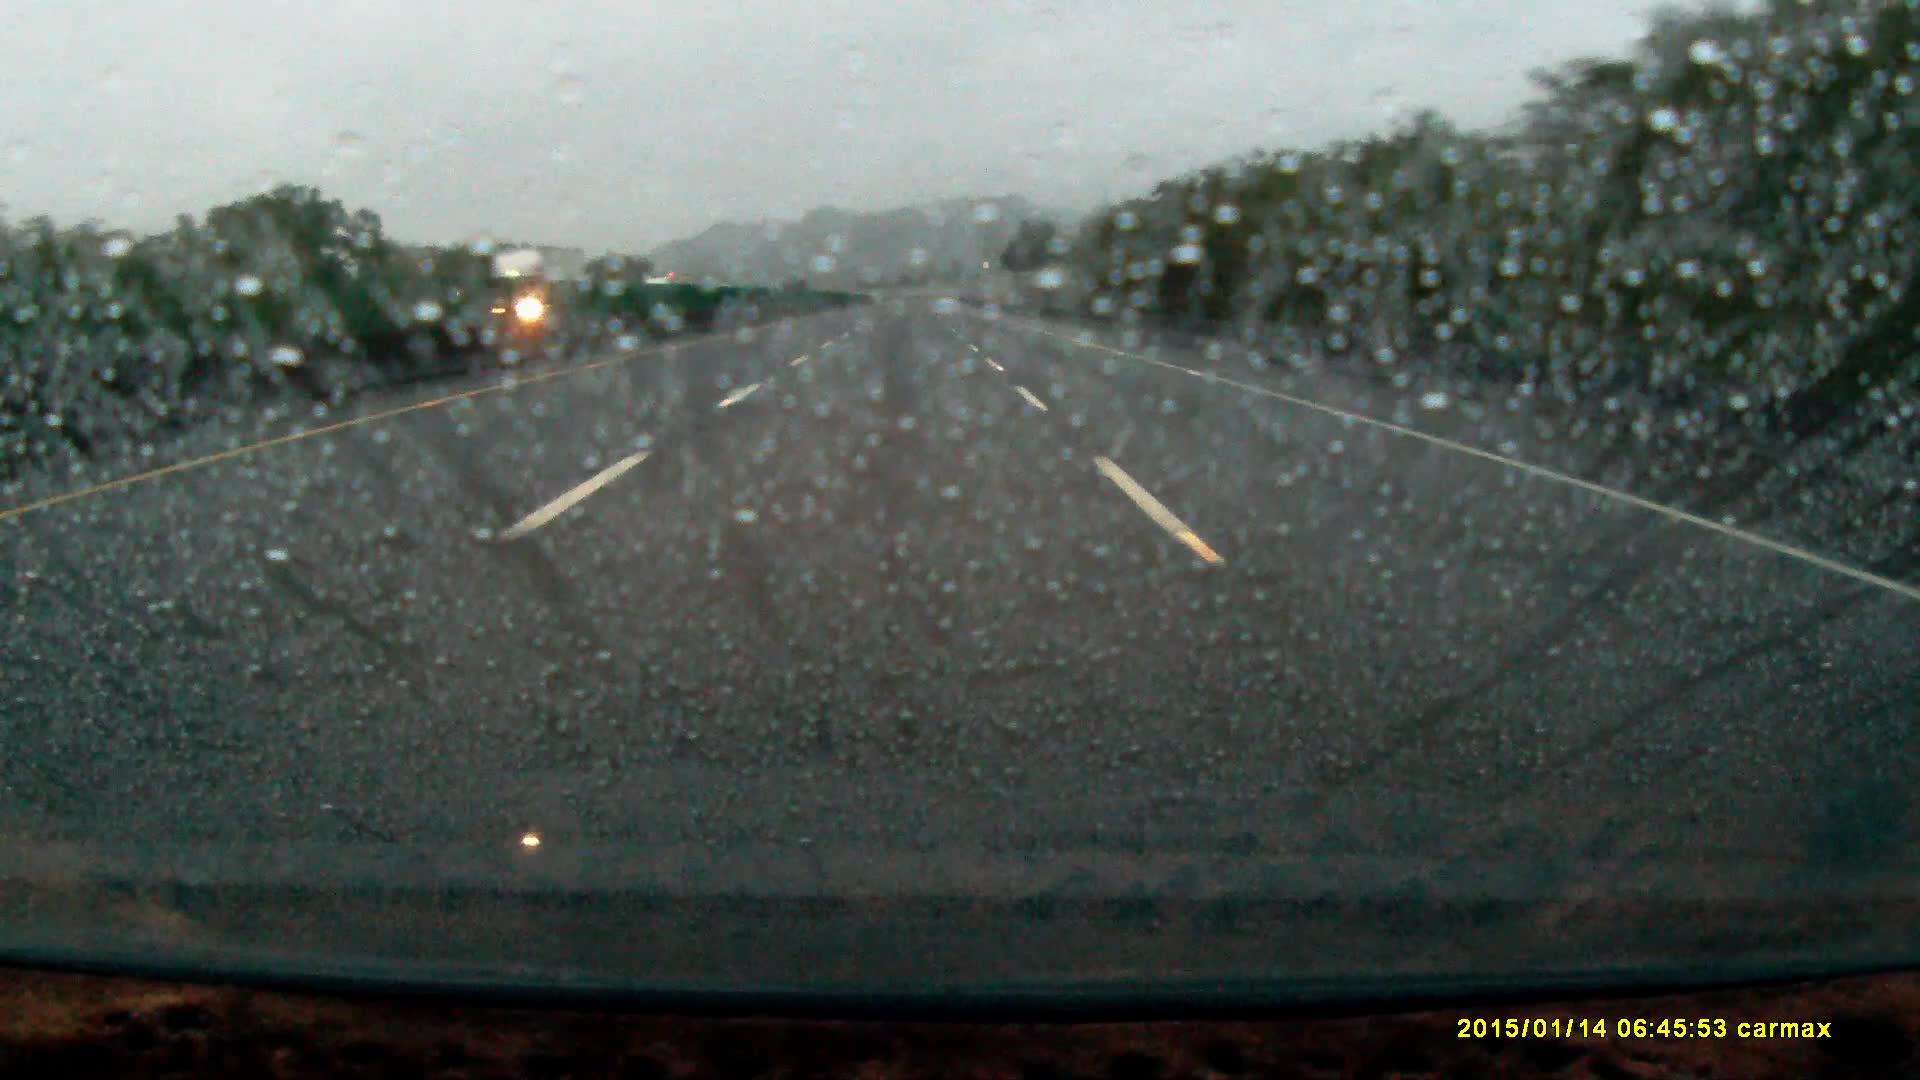vehicle: (491, 248, 605, 340), (645, 278, 692, 313)
